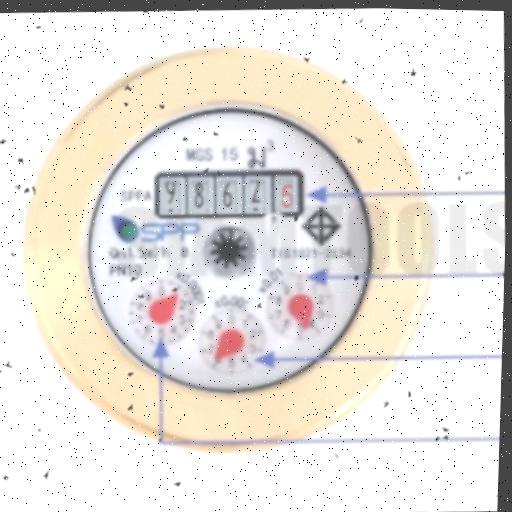2: (248, 180, 265, 213)
5: (278, 179, 295, 211)
6: (218, 179, 237, 212)
8: (191, 180, 208, 214)
9: (162, 181, 181, 214)
border_water_meter_number: (152, 165, 306, 222)
